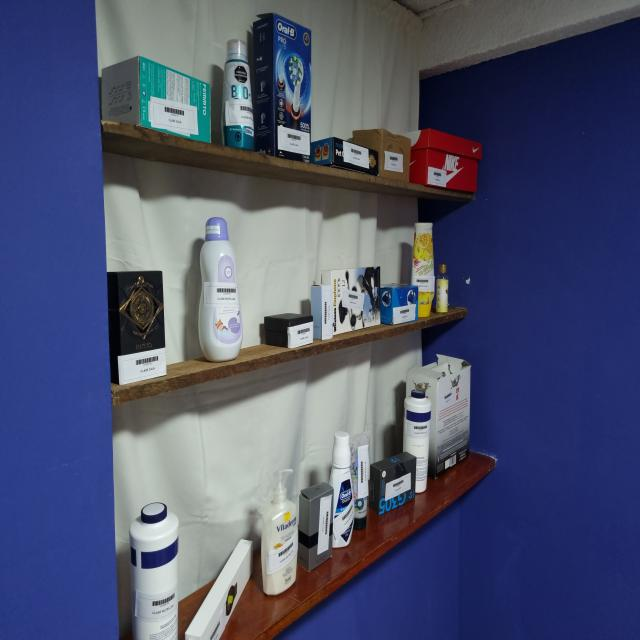botella: (130, 502, 179, 640), (199, 217, 242, 362), (261, 468, 298, 595), (222, 40, 254, 150), (403, 390, 431, 493), (330, 432, 354, 548), (411, 223, 435, 318), (350, 431, 371, 530), (436, 264, 449, 314)
caja: (101, 56, 211, 143), (253, 13, 311, 161), (406, 355, 471, 478), (185, 539, 252, 640), (107, 271, 165, 384), (405, 129, 482, 193), (322, 266, 381, 333), (298, 483, 334, 571), (352, 129, 411, 182), (368, 452, 416, 515), (310, 137, 379, 176), (264, 313, 313, 348), (380, 283, 418, 325), (310, 284, 334, 340)
